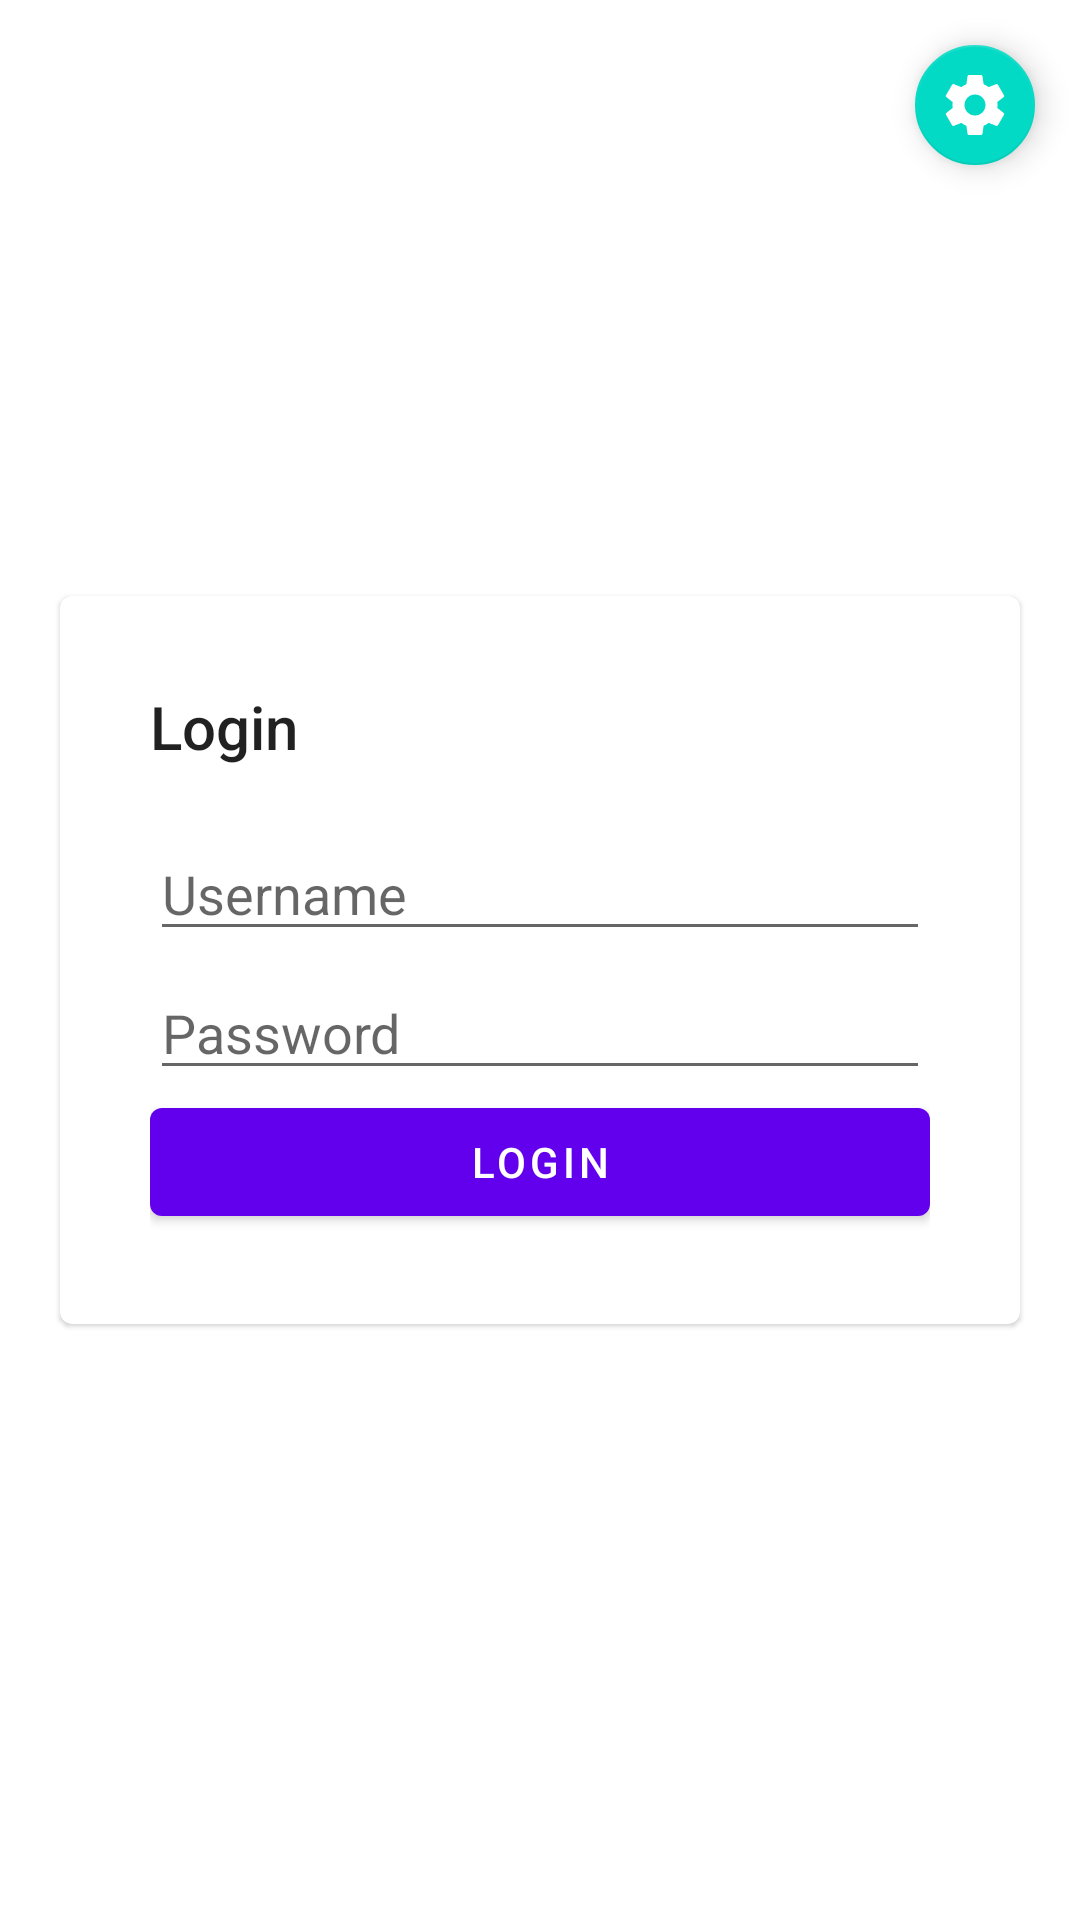

Screen size 1080x1920. Icon name, then its center in pixels as (x,y):
settings: (976,105)
